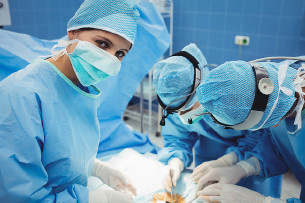face_mask: (68, 29, 127, 87)
